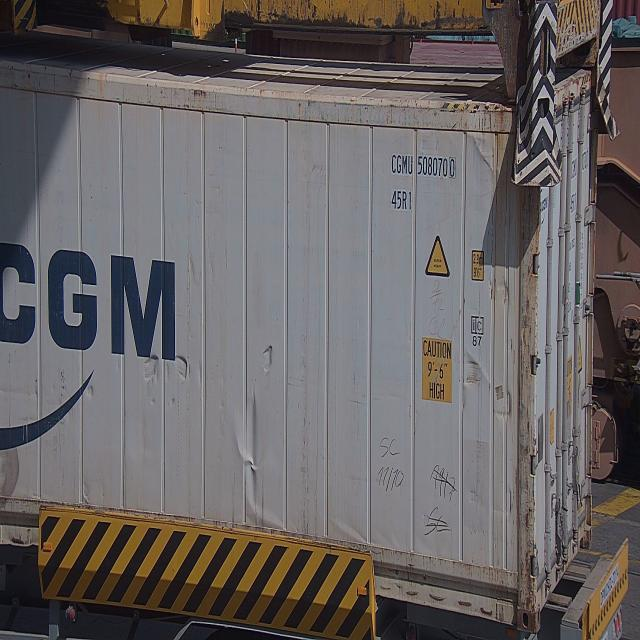dent: (132, 333, 196, 414), (247, 322, 288, 384)
